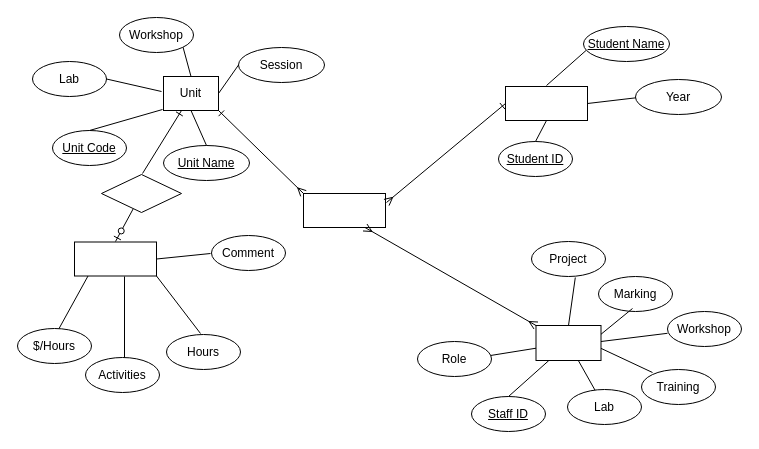
This 759x449 diagram has some shape labels left out. Here are the shapes that lost their labels. From the top down, the centre of each, then its label:
At pixel 546 103: "Student".
At pixel 141 193: "Has".
At pixel 344 210: "Enrolment".
At pixel 115 258: "Non Salary Cost".
At pixel 568 342: "Staff".
